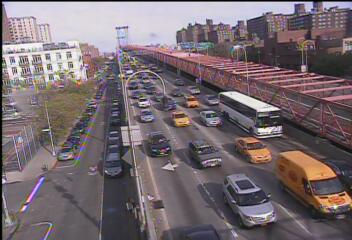neg: (211, 76, 241, 115), (276, 117, 304, 154), (172, 173, 196, 206), (105, 200, 127, 230), (234, 169, 256, 198), (180, 60, 198, 84), (93, 123, 110, 145), (142, 93, 157, 113), (141, 200, 155, 219), (120, 54, 130, 68), (147, 45, 157, 58)
